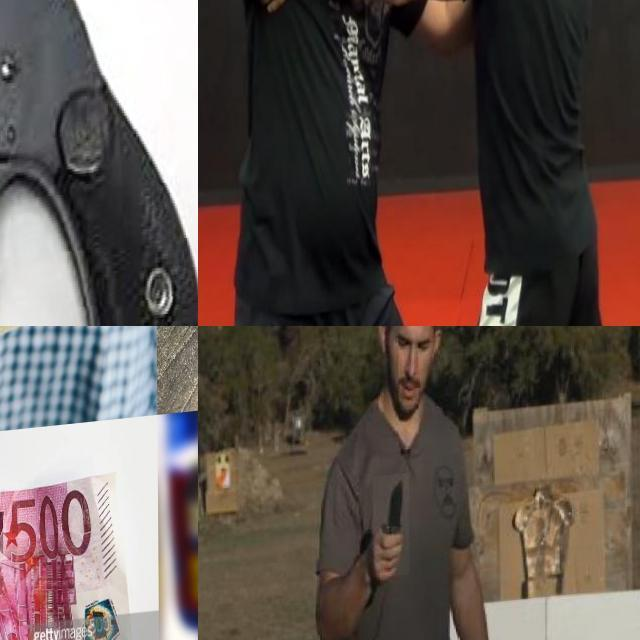-: (372, 479, 409, 583), (319, 0, 419, 38)
gun-knife-thesis - v11 Yolov5 augmented: (0, 0, 198, 326)
